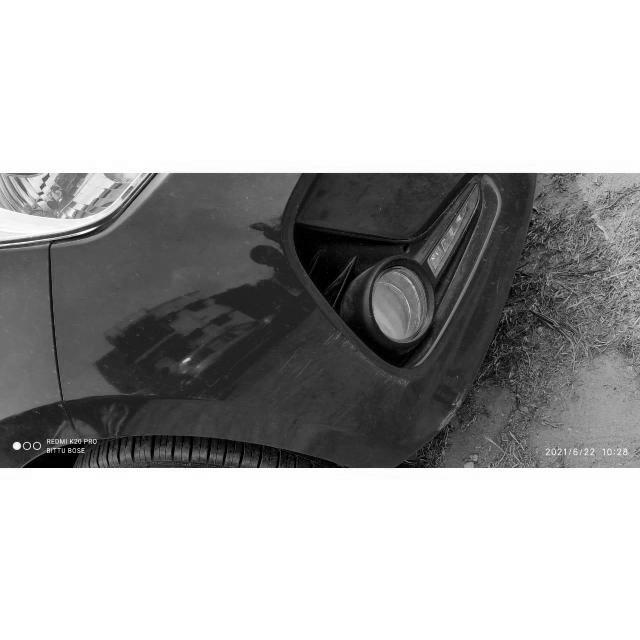front-bumper-dent: (166, 302, 476, 466)
